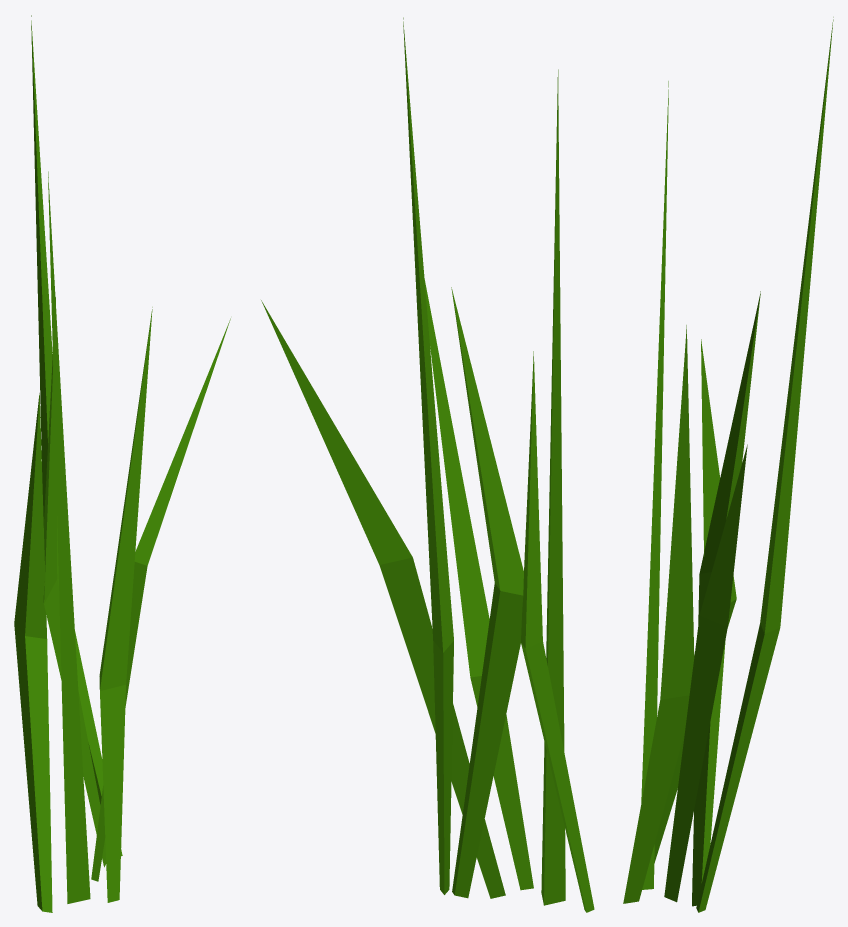
Rendered from Grass_2.fbx.
3 renders of one model, left to right at view 1: azimuth 30°, elevation 25°; view 2: azimuth 150°, elevation 25°; view 3: azimuth 270°, elevation 25°, orthographic. The views are drawn at different scales.
Parts seen in each view (by area): view 1: Grass 2_LOD0; view 2: Grass 2_LOD0; view 3: Grass 2_LOD0.
Boxes of the visible parts, box(x1,y1,x2,y2) form: Grass 2_LOD0: box(14, 15, 230, 912); Grass 2_LOD0: box(261, 17, 594, 912); Grass 2_LOD0: box(623, 17, 833, 912).
Size of what is drawn, in the model's own units: 7.07 by 23.21 by 4.94.
